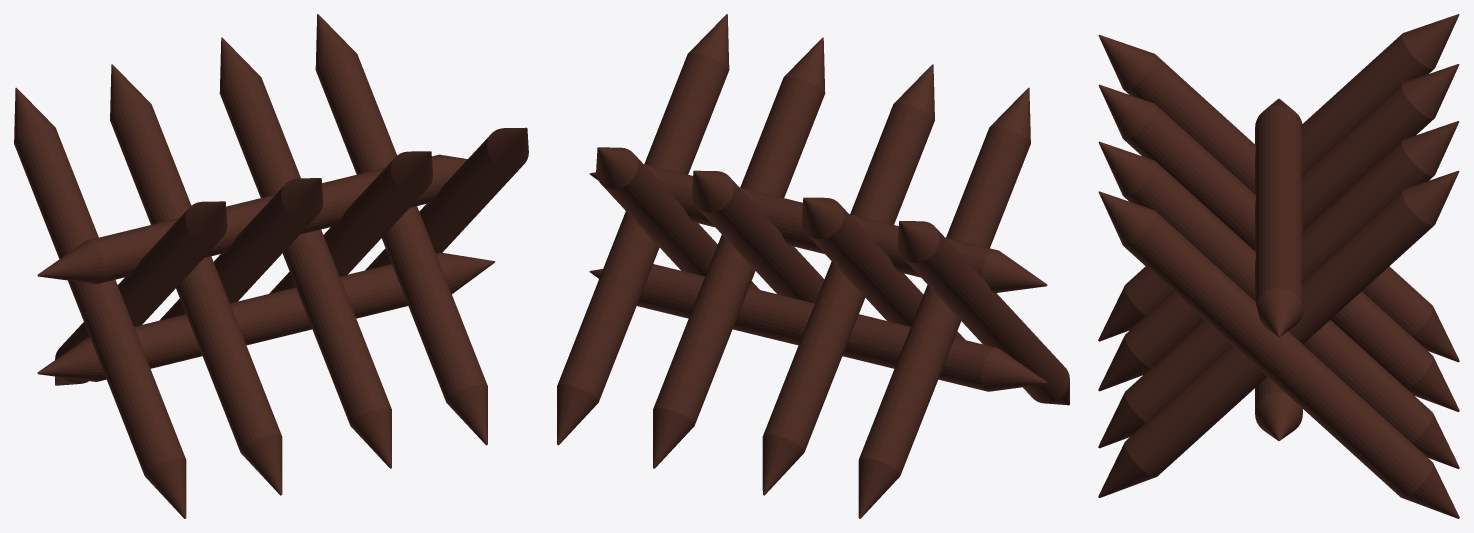
File: SmallWoodenBarricade.fbx
3 views of the same model, side by side, from view 1: azimuth 30°, elevation 25°; view 2: azimuth 150°, elevation 25°; view 3: azimuth 270°, elevation 25° (orthographic). The views are drawn at different scales.
Visible parts, largest first — view 1: Cylinder; view 2: Cylinder; view 3: Cylinder.
Part boxes in pixels (bbox=[...]): Cylinder: bbox=[14, 14, 528, 518]; Cylinder: bbox=[557, 14, 1069, 518]; Cylinder: bbox=[1098, 14, 1459, 518].
Size of the model in its own units: 736 by 473 by 474.
